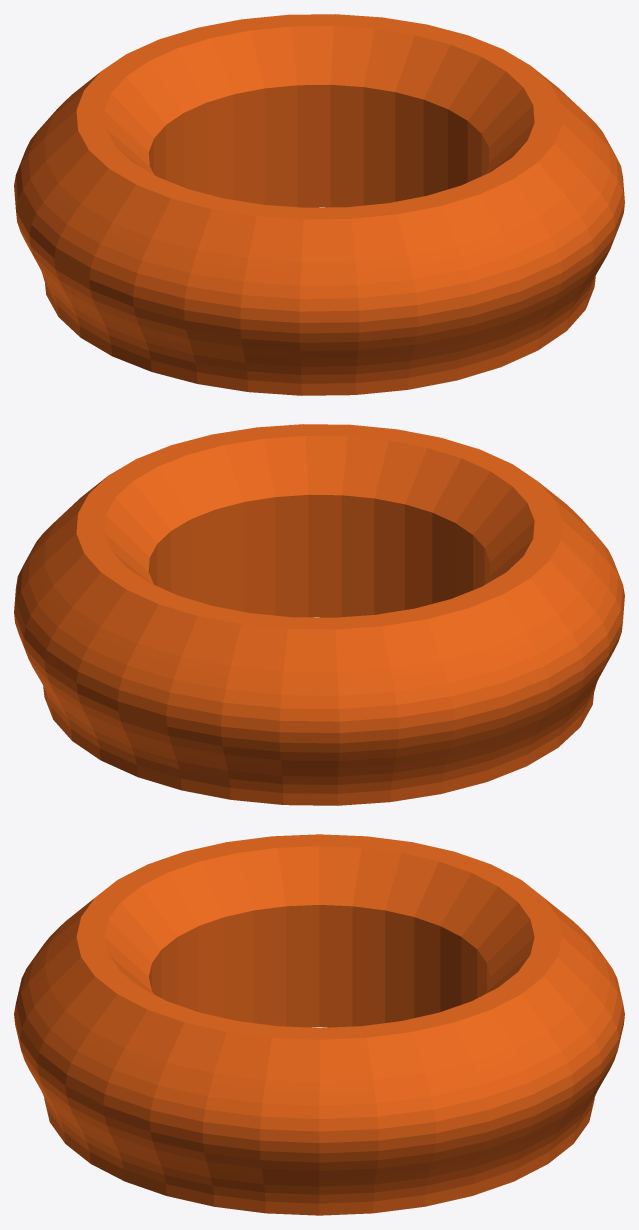
3 views of the same model, one above another, from view 1: azimuth 30°, elevation 25°; view 2: azimuth 150°, elevation 25°; view 3: azimuth 270°, elevation 25° (orthographic).
Parts seen in each view (by area): view 1: Circle; view 2: Circle; view 3: Circle.
Part boxes in pixels (x1=…): Circle: x1=14, y1=14, x2=624, y2=395; Circle: x1=14, y1=424, x2=624, y2=805; Circle: x1=14, y1=834, x2=624, y2=1215.
Bounding box in the file's own units: 2.22 × 0.6511 × 2.22.
